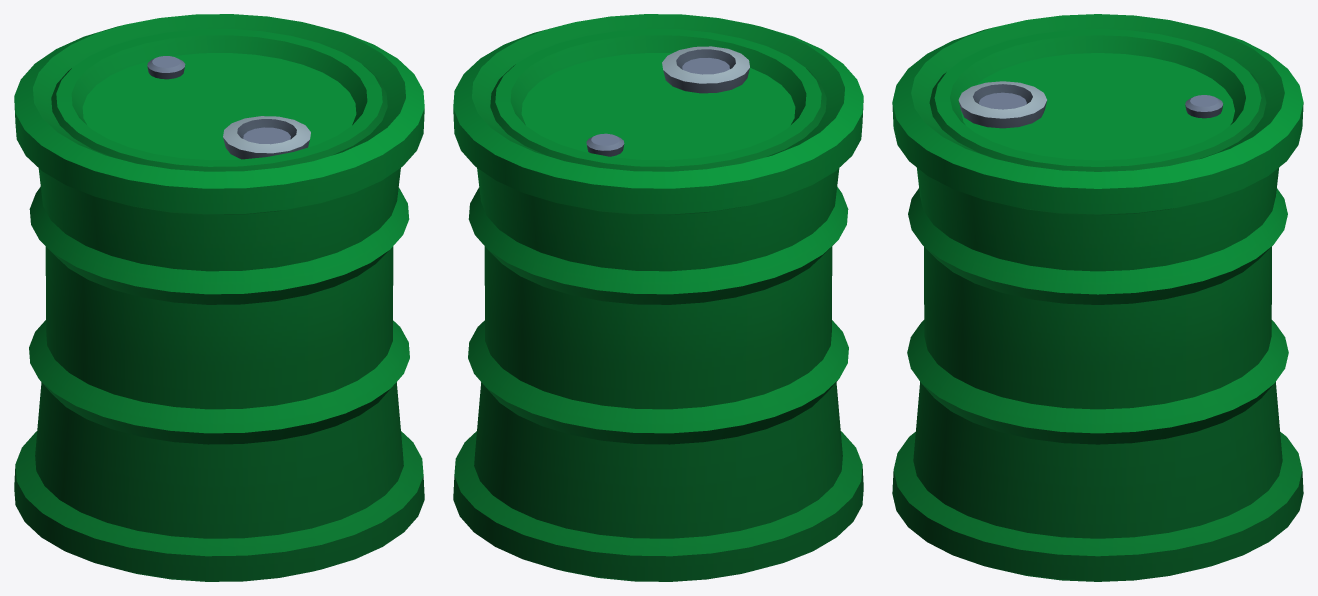
File: fuel_b.fbx
3 views of the same model, side by side, from view 1: azimuth 30°, elevation 25°; view 2: azimuth 150°, elevation 25°; view 3: azimuth 270°, elevation 25° (orthographic).
Parts seen in each view (by area): view 1: fuel_tank2; view 2: fuel_tank2; view 3: fuel_tank2.
Boxes of the visible parts, x1=… form: fuel_tank2: x1=14, y1=14, x2=424, y2=581; fuel_tank2: x1=453, y1=14, x2=863, y2=581; fuel_tank2: x1=892, y1=14, x2=1303, y2=581.
Size of the model in its own units: 72.79 by 80.08 by 72.79.
